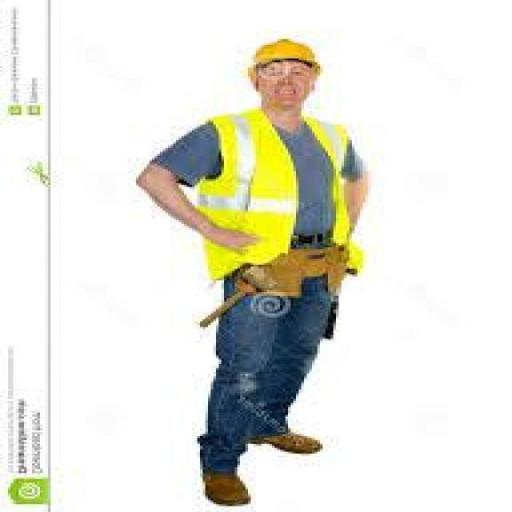Boots: (198, 470, 252, 508), (246, 430, 322, 454)
